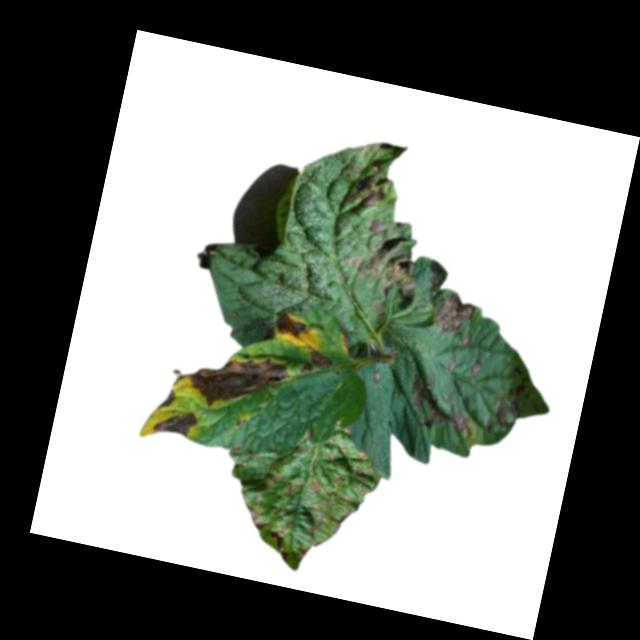Early_blight: (182, 339, 292, 423), (349, 215, 430, 298), (399, 366, 485, 440), (340, 159, 393, 213), (431, 286, 478, 337), (152, 404, 200, 442), (270, 306, 308, 345), (264, 517, 296, 561), (298, 344, 334, 379), (482, 401, 512, 435), (240, 503, 274, 531), (159, 387, 177, 410)
